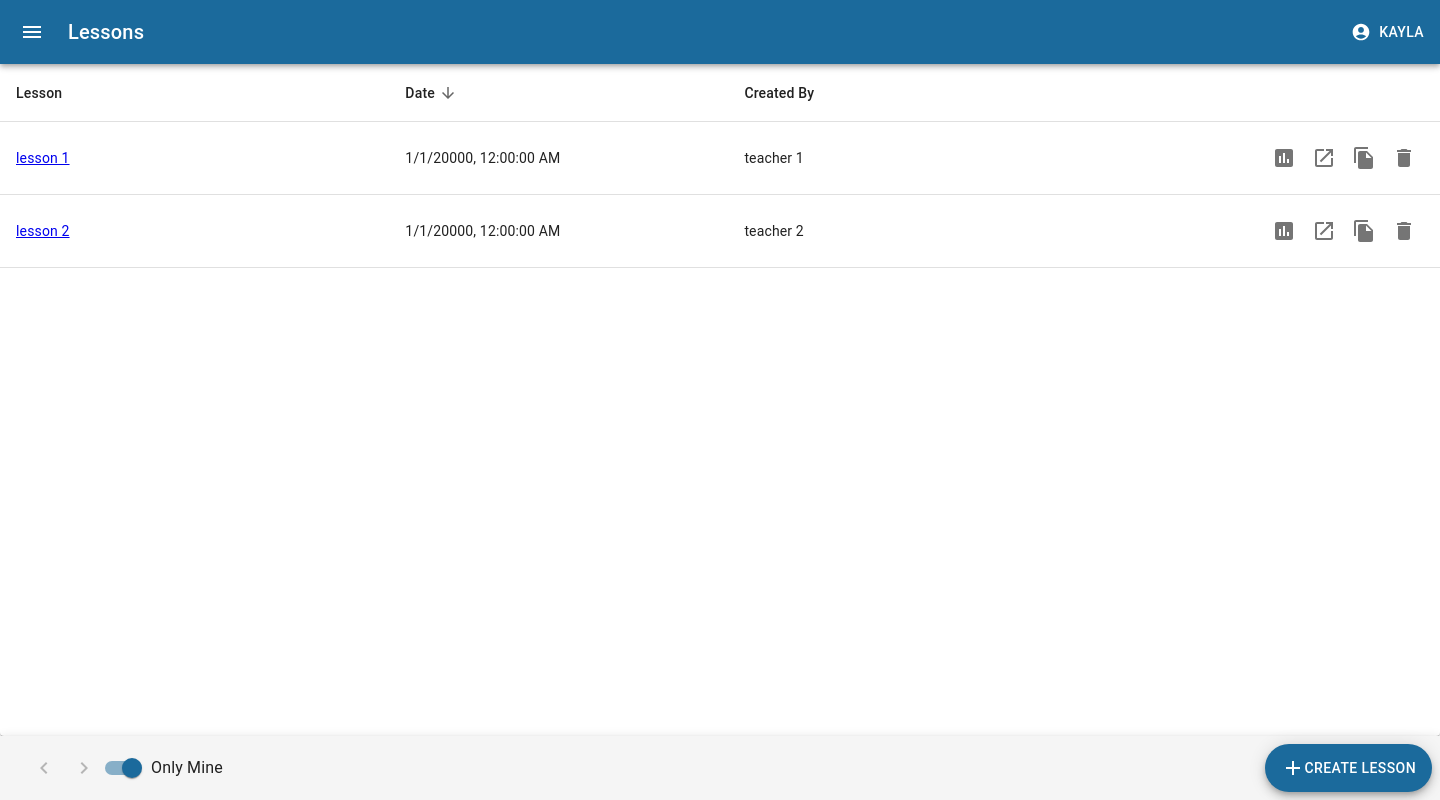
Test case: filtering › selecting grade from lessons page filters sessions page and fills in lesson filter
This screenshot has width=1440, height=800.
Hover over the button with test id "grade-button" in the row of "lesson 1".
mouse_move(1284, 158)  # box left=1264, top=138, right=1304, bottom=178
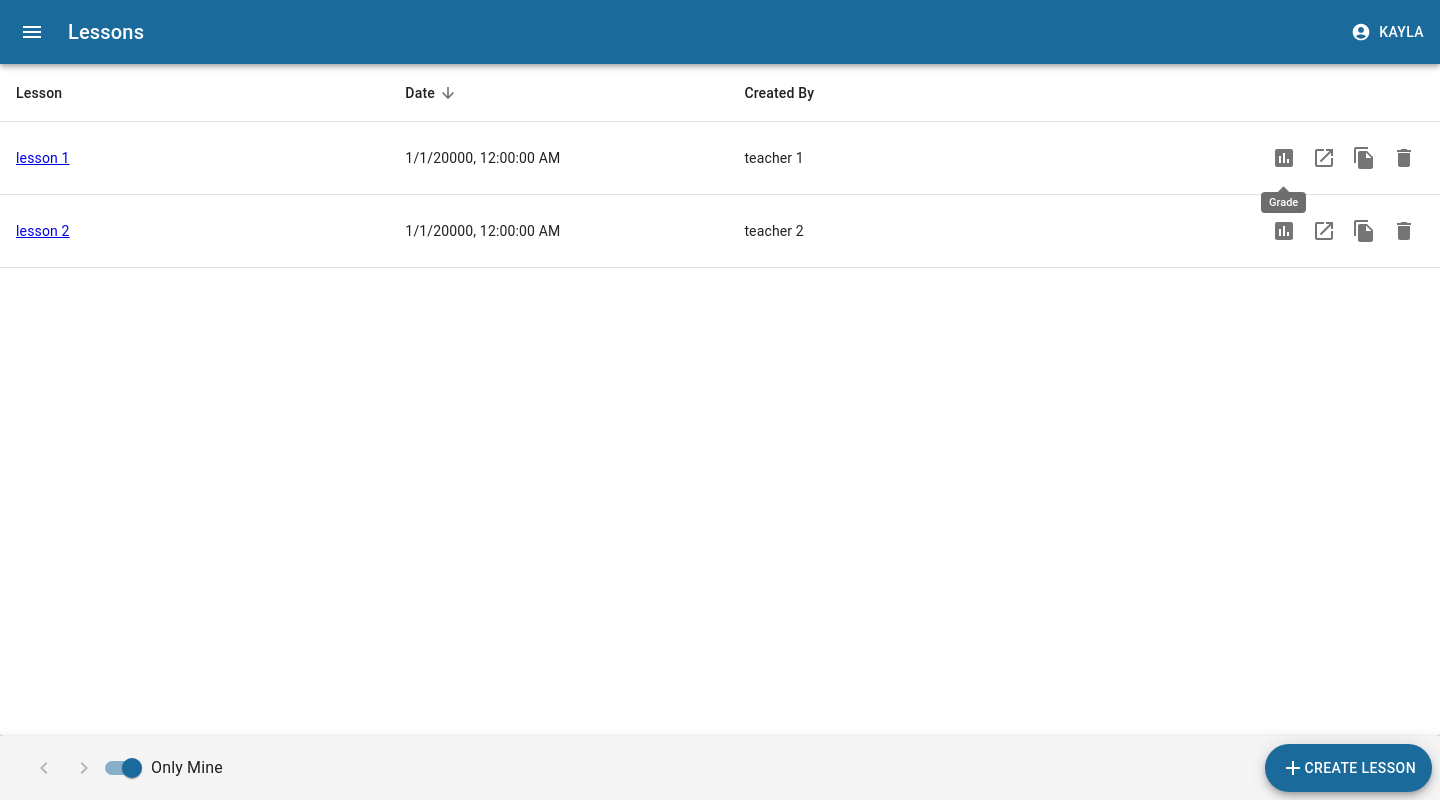
Click the button with test id "grade-button" in the row of "lesson 1".
click(1284, 158)  # box left=1264, top=138, right=1304, bottom=178
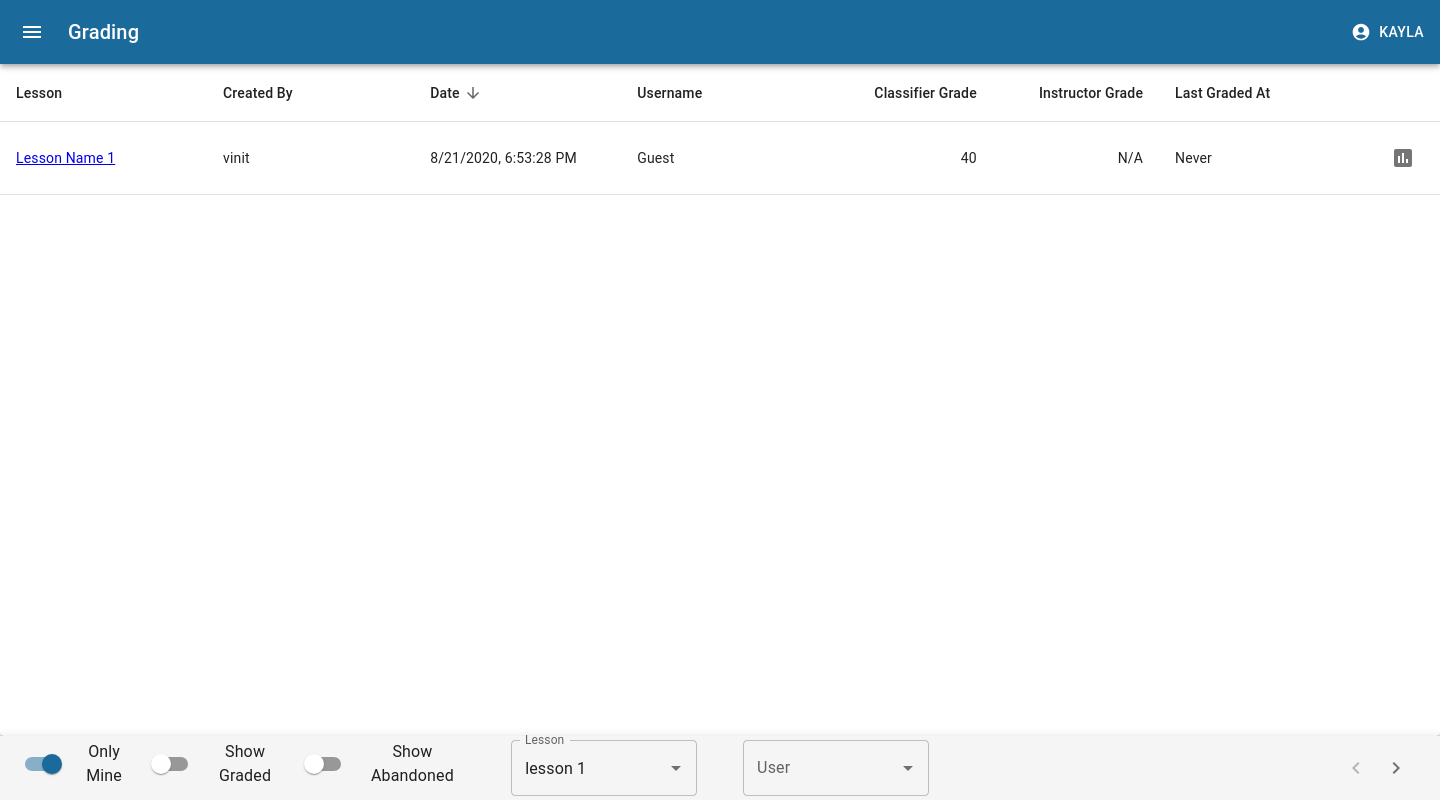
Result: the link "Lesson Name 1" is shown at left=16, top=150, right=115, bottom=166
Result: the dropdown labelled "Lesson" holds "lesson 1" at left=520, top=749, right=632, bottom=787
